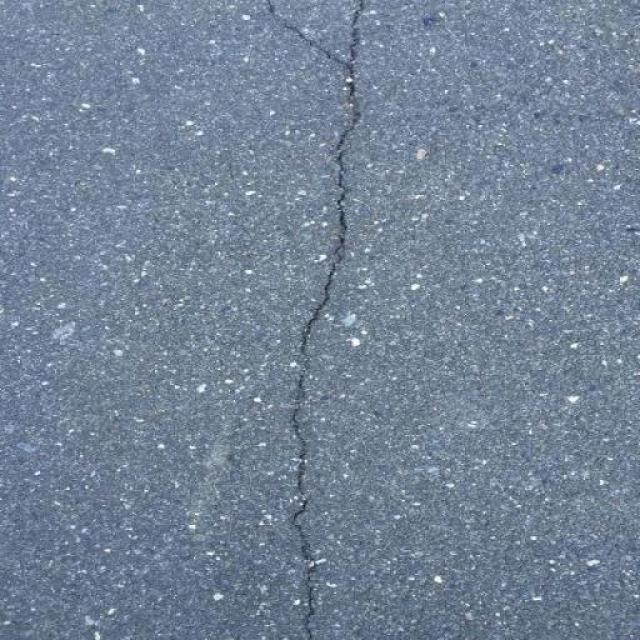Crack: (257, 0, 391, 640)
